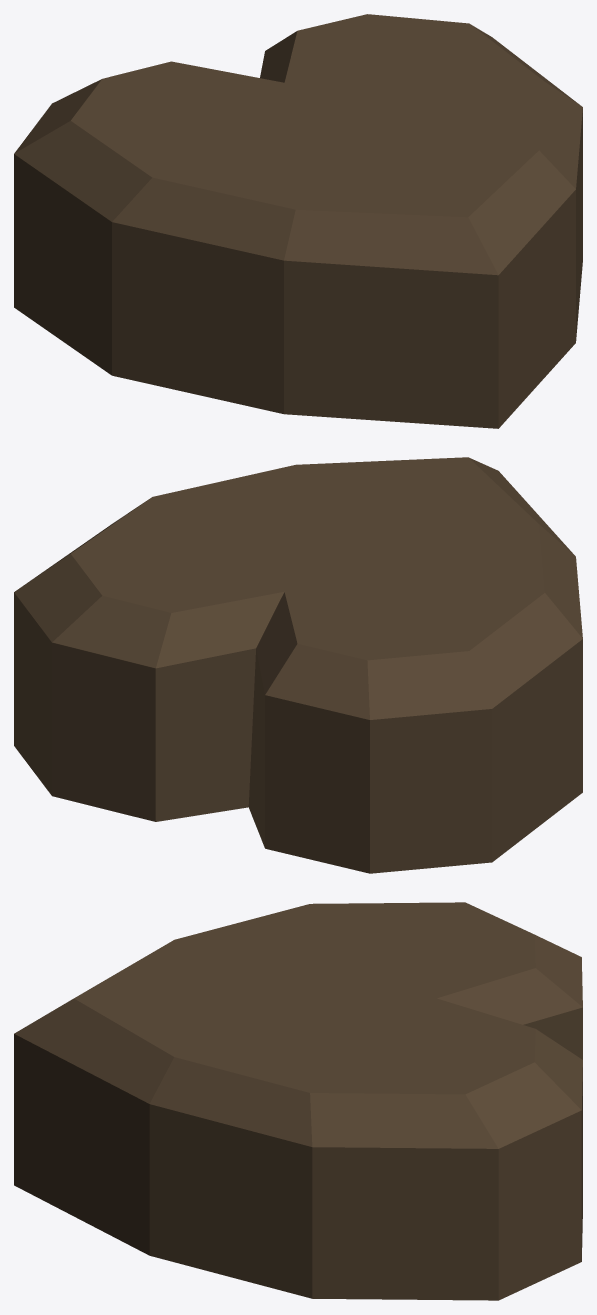
File: SM_Prop_Chocolate_02.fbx
The picture shows the model from 3 angles, top to bottom: view 1: azimuth 30°, elevation 25°; view 2: azimuth 150°, elevation 25°; view 3: azimuth 270°, elevation 25°; orthographic projection.
Visible parts, largest first — view 1: SM_Prop_Chocolate_02; view 2: SM_Prop_Chocolate_02; view 3: SM_Prop_Chocolate_02.
Part boxes in pixels (x1,y1,x2,y2): SM_Prop_Chocolate_02: (14,14,582,428); SM_Prop_Chocolate_02: (14,457,582,873); SM_Prop_Chocolate_02: (14,902,582,1300).
Bounding box in the file's own units: 9.66 × 3.66 × 10.09.
Materials: 1 (1 with a texture image).
